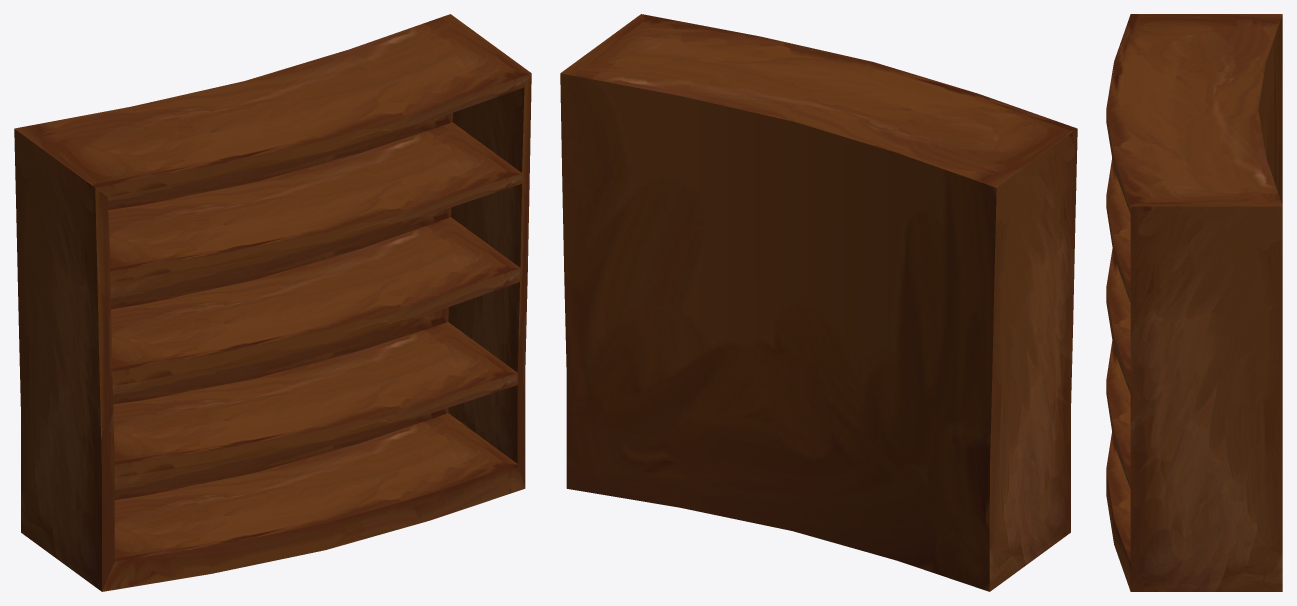
Rendered from e_asset_bookcase_curved_1.fbx.
The picture shows the model from 3 angles, left to right: view 1: azimuth 30°, elevation 25°; view 2: azimuth 150°, elevation 25°; view 3: azimuth 270°, elevation 25°; orthographic projection. The views are drawn at different scales.
Parts seen in each view (by area): view 1: e_asset_bookcase4; view 2: e_asset_bookcase4; view 3: e_asset_bookcase4.
Boxes of the visible parts, x1,y1,x2,y2 form: e_asset_bookcase4: (14, 14, 531, 591); e_asset_bookcase4: (560, 14, 1077, 591); e_asset_bookcase4: (1106, 14, 1282, 591).
Bounding box in the file's own units: 1.77 × 1.6 × 0.6597.
